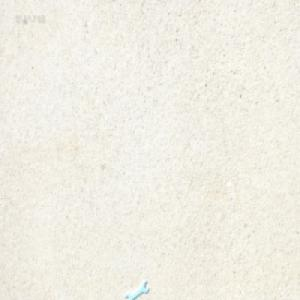Wrench: (124, 280, 149, 299)
